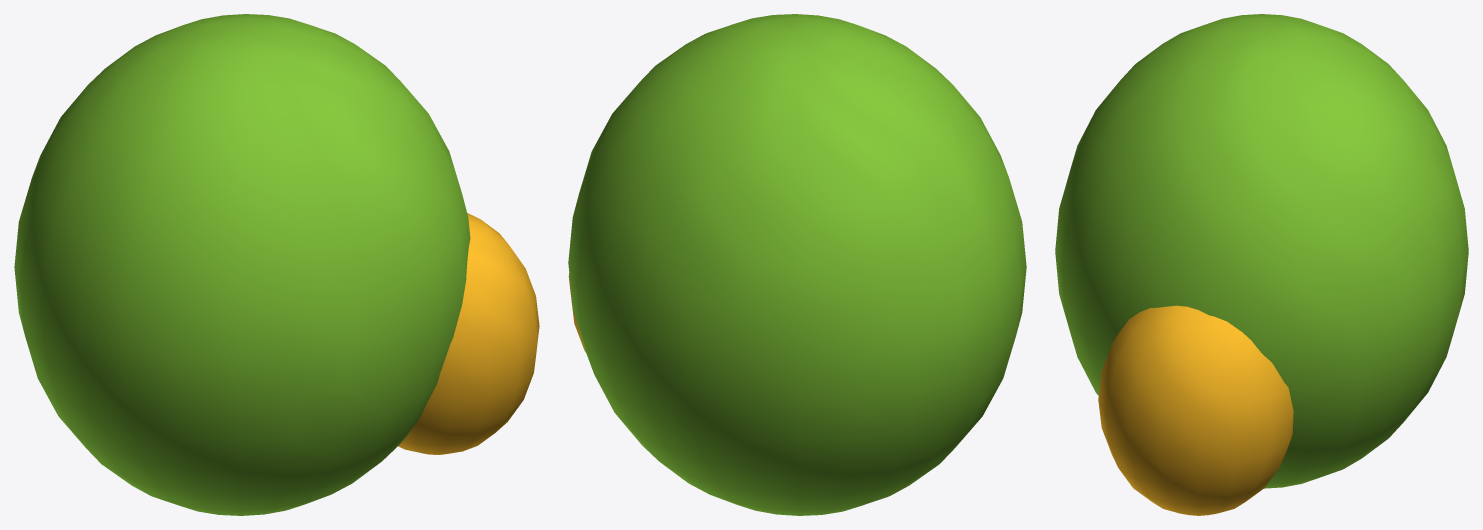
The model's file is gumdrop-boulder.glb.
3 renders of one model, left to right at view 1: azimuth 30°, elevation 25°; view 2: azimuth 150°, elevation 25°; view 3: azimuth 270°, elevation 25°, orthographic. The views are drawn at different scales.
Parts seen in each view (by area): view 1: Sugared gumdrop, Small sugared drop; view 2: Sugared gumdrop; view 3: Sugared gumdrop, Small sugared drop.
Part boxes in pixels (<box>): Sugared gumdrop: <box>14,14,470,515</box>; Small sugared drop: <box>398,213,539,454</box>; Sugared gumdrop: <box>568,14,1026,515</box>; Sugared gumdrop: <box>1055,14,1468,488</box>; Small sugared drop: <box>1098,305,1293,515</box>.
Bounding box in the file's own units: 1.7 × 1.68 × 1.44.
